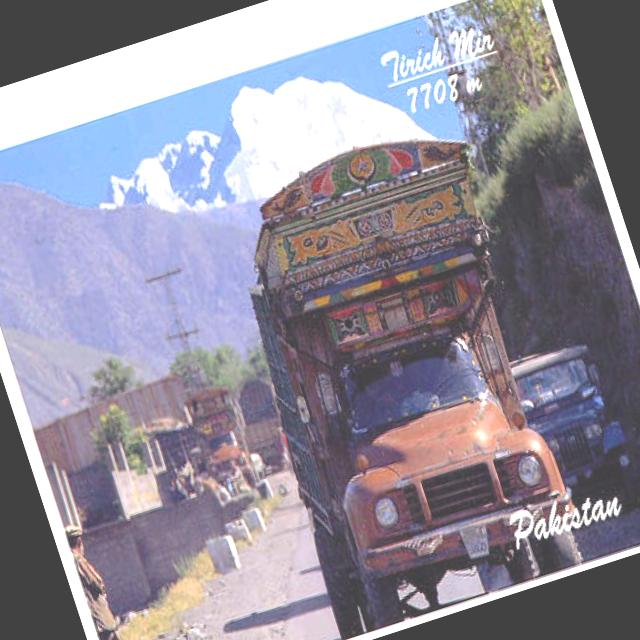Vehicle: (193, 109, 609, 640), (505, 333, 640, 531)
